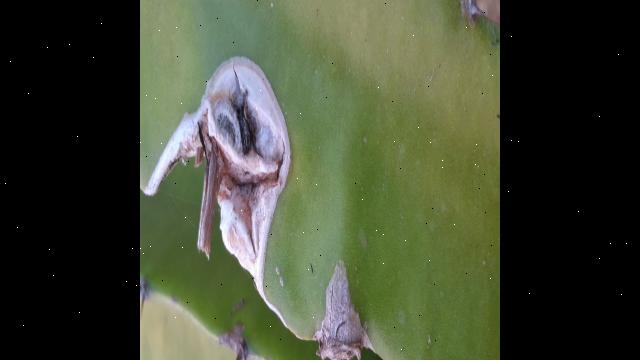stemcanker: (305, 259, 391, 348)
